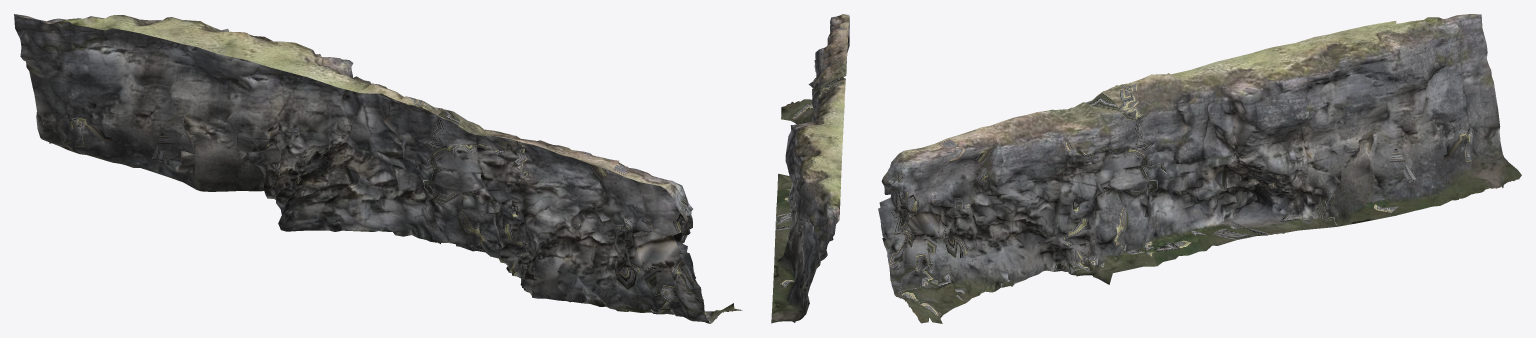
File: crag.lod0.glb
3 renders of one model, left to right at view 1: azimuth 30°, elevation 25°; view 2: azimuth 150°, elevation 25°; view 3: azimuth 270°, elevation 25°, orthographic. The views are drawn at different scales.
Parts seen in each view (by area): view 1: stranska_skala_1_stranska_skala_1_0; view 2: stranska_skala_1_stranska_skala_1_0; view 3: stranska_skala_1_stranska_skala_1_0.
Boxes of the visible parts, x1=… form: stranska_skala_1_stranska_skala_1_0: x1=14, y1=14, x2=742, y2=323; stranska_skala_1_stranska_skala_1_0: x1=771, y1=14, x2=849, y2=323; stranska_skala_1_stranska_skala_1_0: x1=878, y1=14, x2=1521, y2=323.
Size of the model in its own units: 42.84 by 18.88 by 67.93.
1 material, 1 textured.
